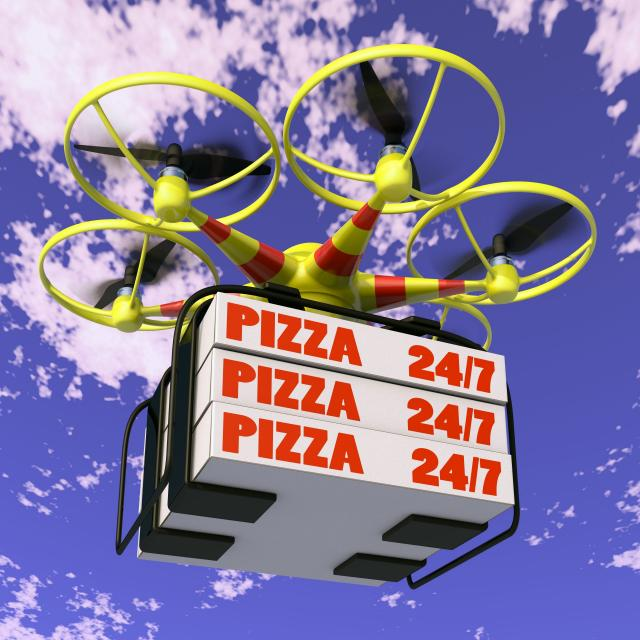drones: (34, 32, 599, 396)
